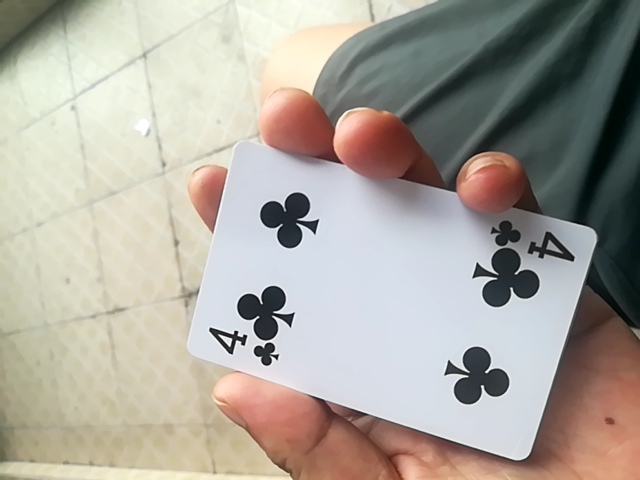mh 4: (181, 143, 600, 465)
